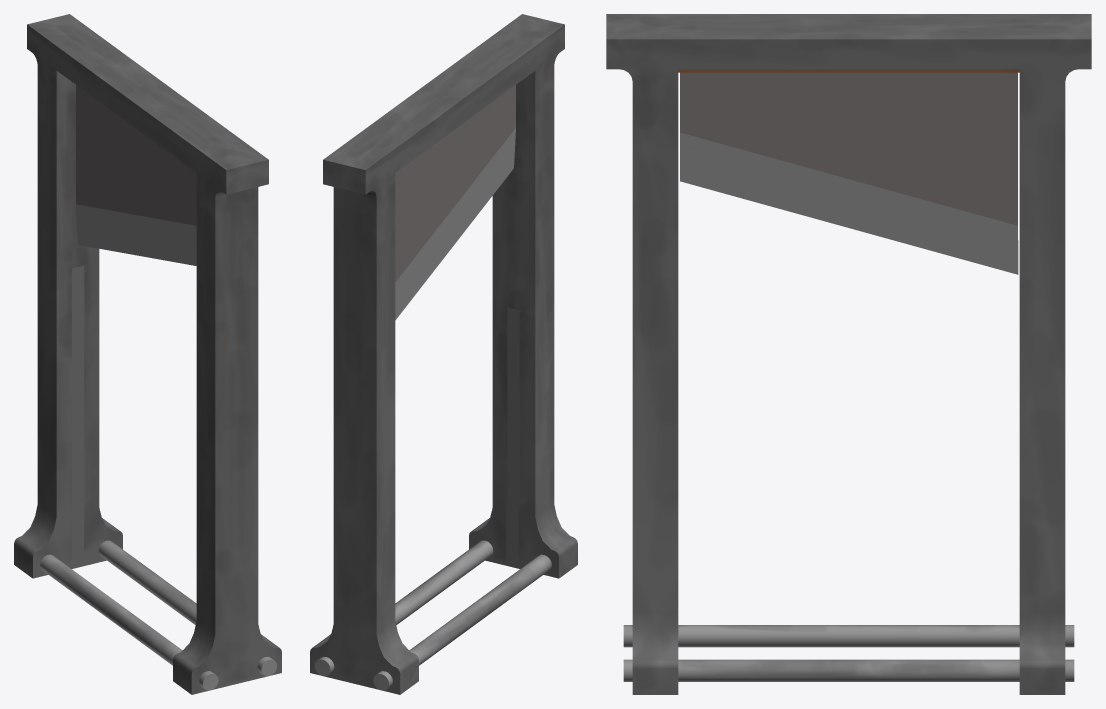
The model's file is guillotine.glb.
3 views of the same model, side by side, from view 1: azimuth 30°, elevation 25°; view 2: azimuth 150°, elevation 25°; view 3: azimuth 270°, elevation 25° (orthographic). The views are drawn at different scales.
Visible parts, largest first — view 1: Frame, Blade; view 2: Frame, Blade; view 3: Frame, Blade.
Boxes of the visible parts, left/top/right/bottom form: Frame: left=14, top=14, right=281, bottom=694; Blade: left=76, top=85, right=196, bottom=265; Frame: left=310, top=14, right=577, bottom=694; Blade: left=395, top=85, right=515, bottom=320; Frame: left=606, top=14, right=1091, bottom=694; Blade: left=680, top=72, right=1018, bottom=274.
Size of the model in its own units: 1.89 by 10.59 by 7.25.
2 materials, 2 textured.
